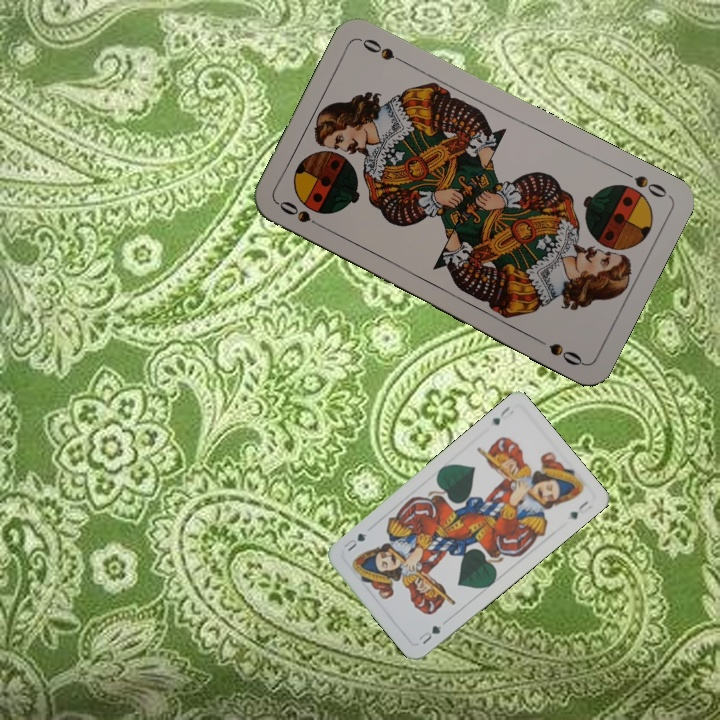GU: (415, 621, 444, 647), (488, 402, 512, 428)
SO: (275, 197, 329, 233), (617, 166, 670, 201)
